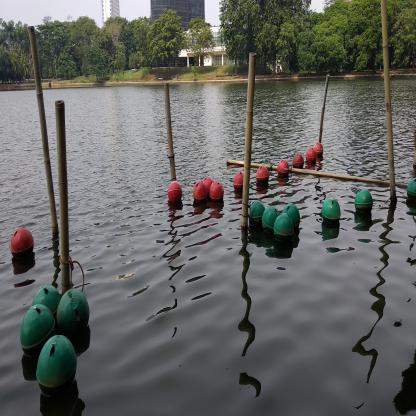green_buoy: (36, 333, 79, 400), (20, 302, 55, 366), (56, 289, 92, 340), (273, 215, 294, 253), (320, 198, 342, 229), (354, 188, 375, 218), (262, 205, 278, 239), (248, 200, 262, 238), (406, 179, 415, 211)
red_buoy: (10, 224, 36, 264), (255, 164, 270, 192), (166, 180, 182, 206), (193, 179, 207, 208), (210, 181, 224, 205), (276, 158, 290, 182), (233, 170, 245, 194), (306, 146, 317, 168), (293, 152, 304, 171), (315, 142, 325, 160)
